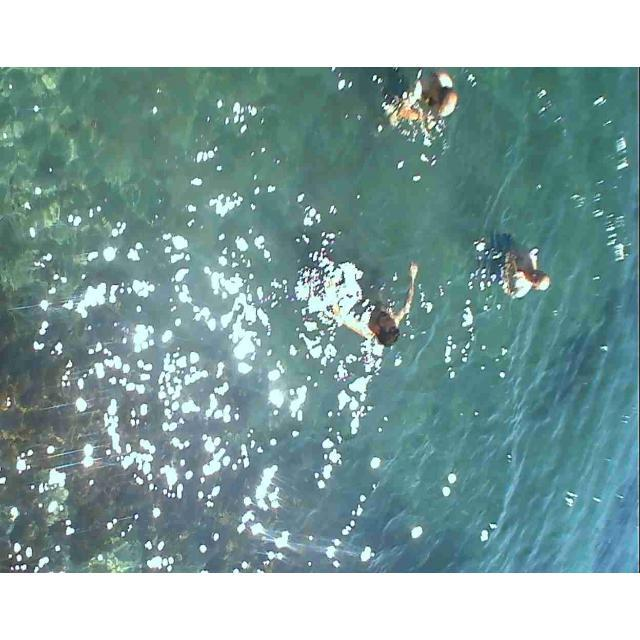human: (308, 246, 419, 358), (477, 216, 554, 306), (390, 67, 451, 154)
